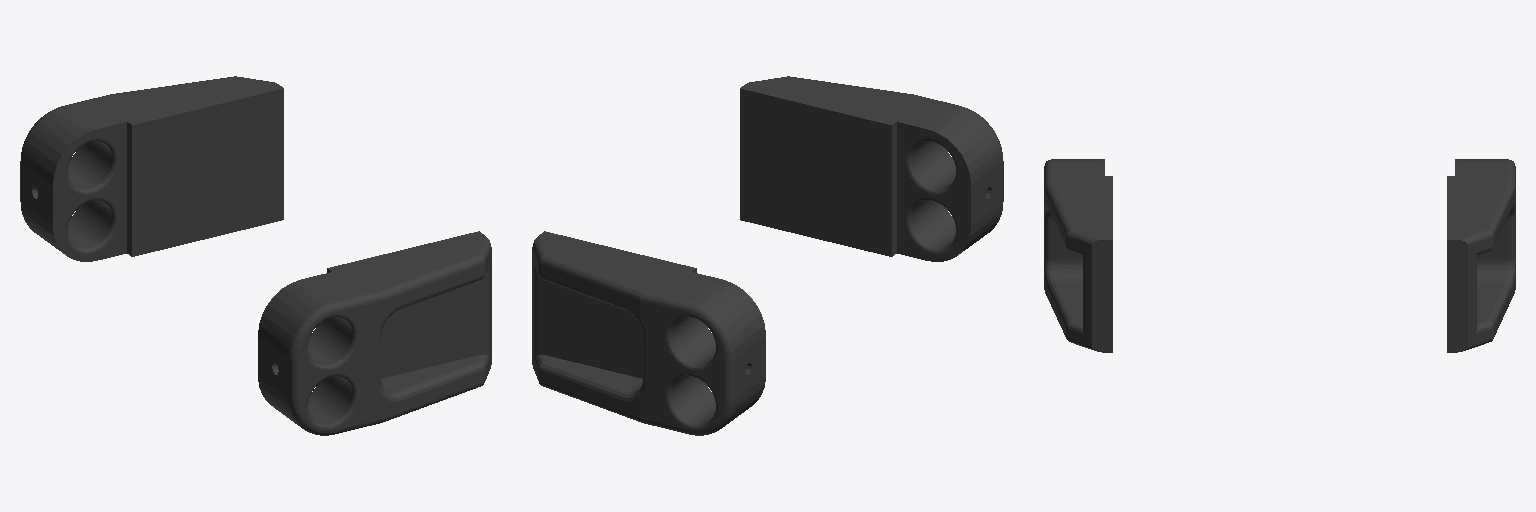
The robot description file, URDF, robot "wx200":
<?xml version="1.0" ?>
<!-- =================================================================================== -->
<!-- |    This document was autogenerated by xacro from urdf/origin.xacro              | -->
<!-- |    EDITING THIS FILE BY HAND IS NOT RECOMMENDED                                 | -->
<!-- =================================================================================== -->
<robot
   name="wx200">
  <link name="robot_arm">
    <visual>
      <origin rpy="0 0 -1.570796325" xyz="0 0 0"/>
      <geometry>
        <mesh filename="meshes/base.stl" scale="1 1 1"/>
      </geometry>
      <material
        name="">
        <color
          rgba="0.3 0.3 0.3 1" />
      </material>
    </visual>
    <collision>
      <origin rpy="0 0 -1.570796325" xyz="0 0 0"/>
      <geometry>
        <mesh filename="meshes/base.stl" scale="1 1 1"/>
      </geometry>
    </collision>
    <inertial>
      <origin rpy="0 0 1.570796325" xyz="-0.0381747000 0.0006478630 0.0193458000"/>
      <mass value="0.540142"/>
      <inertia ixx="0.0021190000" iyy="0.0006925000" izz="0.0025280000" ixy="-0.0000172100" ixz="0.0000006389" iyz="0.0000461200"/>
    </inertial>
  </link>
  <joint name="waist" type="revolute">
    <axis xyz="0 0 1"/>
    <limit effort="8" lower="-3.14158265" upper="3.14158265" velocity="3.14159265"/>
    <origin rpy="0 0 0" xyz="0 0 0.072"/>
    <parent link="robot_arm"/>
    <child link="shoulder_link"/>
    <dynamics friction="0.1"/>
  </joint>
  <transmission name="trans_waist">
    <type>transmission_interface/SimpleTransmission</type>
    <joint name="waist">
      <hardwareInterface>hardware_interface/EffortJointInterface</hardwareInterface>
    </joint>
    <actuator name="waist_motor">
      <mechanicalReduction>1</mechanicalReduction>
    </actuator>
  </transmission>
  <link name="shoulder_link">
    <visual>
      <origin rpy="0 0 1.570796325" xyz="0 0 -0.003"/>
      <geometry>
        <mesh filename="meshes/wx200_2_shoulder.stl" scale="0.001 0.001 0.001"/>
      </geometry>
      <material
        name="">
        <color
          rgba="0.3 0.3 0.3 1" />
      </material>
    </visual>
    <collision>
      <origin rpy="0 0 1.570796325" xyz="0 0 -0.003"/>
      <geometry>
        <mesh filename="meshes/wx200_2_shoulder.stl" scale="0.001 0.001 0.001"/>
      </geometry>
    </collision>
    <inertial>
      <origin rpy="0 0 1.570796325" xyz="0.0000223210 0.0000414608 0.0066287000"/>
      <mass value="0.480879"/>
      <inertia ixx="0.0003790000" iyy="0.0005557000" izz="0.0005889000" ixy="0.0000000022" ixz="-0.0000003561" iyz="0.0000012247"/>
    </inertial>
  </link>
  <joint name="shoulder" type="revolute">
    <axis xyz="0 1 0"/>
    <limit effort="18" lower="-1.88496" upper="1.97222" velocity="3.14159265"/>
    <origin rpy="0 0 0" xyz="0 0 0.03865"/>
    <parent link="shoulder_link"/>
    <child link="upper_arm_link"/>
    <dynamics friction="0.1"/>
  </joint>
  <transmission name="trans_shoulder">
    <type>transmission_interface/SimpleTransmission</type>
    <joint name="shoulder">
      <hardwareInterface>hardware_interface/EffortJointInterface</hardwareInterface>
    </joint>
    <actuator name="shoulder_motor">
      <mechanicalReduction>1</mechanicalReduction>
    </actuator>
  </transmission>
  <link name="upper_arm_link">
    <visual>
      <origin rpy="0 0 1.570796325" xyz="0 0 0"/>
      <geometry>
        <mesh filename="meshes/wx200_3_upper_arm.stl" scale="0.001 0.001 0.001"/>
      </geometry>
      <material
        name="">
        <color
          rgba="0.3 0.3 0.3 1" />
      </material>
    </visual>
    <collision>
      <origin rpy="0 0 1.570796325" xyz="0 0 0"/>
      <geometry>
        <mesh filename="meshes/wx200_3_upper_arm.stl" scale="0.001 0.001 0.001"/>
      </geometry>
    </collision>
    <inertial>
      <origin rpy="0 0 1.570796325" xyz="0.0119707000 -0.0001179264 0.1394290000"/>
      <mass value="0.297781"/>
      <inertia ixx="0.0017100000" iyy="0.0016310000" izz="0.0001482000" ixy="-0.0000011433" ixz="0.0000021161" iyz="0.0002135000"/>
    </inertial>
  </link>
  <joint name="elbow" type="revolute">
    <axis xyz="0 1 0"/>
    <limit effort="13" lower="-1.88496" upper="1.62316" velocity="3.14159265"/>
    <origin rpy="0 0 0" xyz="0.05 0 0.2"/>
    <parent link="upper_arm_link"/>
    <child link="forearm_link"/>
    <dynamics friction="0.1"/>
  </joint>
  <transmission name="trans_elbow">
    <type>transmission_interface/SimpleTransmission</type>
    <joint name="elbow">
      <hardwareInterface>hardware_interface/EffortJointInterface</hardwareInterface>
    </joint>
    <actuator name="elbow_motor">
      <mechanicalReduction>1</mechanicalReduction>
    </actuator>
  </transmission>
  <link name="forearm_link">
    <visual>
      <origin rpy="0 0 1.570796325" xyz="0 0 0"/>
      <geometry>
        <mesh filename="meshes/wx200_4_forearm.stl" scale="0.001 0.001 0.001"/>
      </geometry>
      <material
        name="">
        <color
          rgba="0.3 0.3 0.3 1" />
      </material>
    </visual>
    <collision>
      <origin rpy="0 0 1.570796325" xyz="0 0 0"/>
      <geometry>
        <mesh filename="meshes/wx200_4_forearm.stl" scale="0.001 0.001 0.001"/>
      </geometry>
    </collision>
    <inertial>
      <origin rpy="0 0 1.570796325" xyz="0.1211920000 -0.0001238123 0.0000000000"/>
      <mass value="0.283651"/>
      <inertia ixx="0.0011850000" iyy="0.0000682900" izz="0.0012060000" ixy="-0.0000024317" ixz="0.0000000000" iyz="0.0000000000"/>
    </inertial>
  </link>
  <joint name="wrist_angle" type="revolute">
    <axis xyz="0 1 0"/>
    <limit effort="5" lower="-1.74533" upper="2.14675" velocity="3.14159265"/>
    <origin rpy="0 0 0" xyz="0.2 0 0"/>
    <parent link="forearm_link"/>
    <child link="wrist_link"/>
    <dynamics friction="0.1"/>
  </joint>
  <transmission name="trans_wrist_angle">
    <type>transmission_interface/SimpleTransmission</type>
    <joint name="wrist_angle">
      <hardwareInterface>hardware_interface/EffortJointInterface</hardwareInterface>
    </joint>
    <actuator name="wrist_angle_motor">
      <mechanicalReduction>1</mechanicalReduction>
    </actuator>
  </transmission>
  <link name="wrist_link">
    <visual>
      <origin rpy="0 0 1.570796325" xyz="0 0 0"/>
      <geometry>
        <mesh filename="meshes/wx200_5_wrist.stl" scale="0.001 0.001 0.001"/>
      </geometry>
      <material
        name="">
        <color
          rgba="0.3 0.3 0.3 1" />
      </material>
    </visual>
    <collision>
      <origin rpy="0 0 1.570796325" xyz="0 0 0"/>
      <geometry>
        <mesh filename="meshes/wx200_5_wrist.stl" scale="0.001 0.001 0.001"/>
      </geometry>
    </collision>
    <inertial>
      <origin rpy="0 0 1.570796325" xyz="0.0423600000 -0.0000106630 0.0105770000"/>
      <mass value="0.084957"/>
      <inertia ixx="0.0000308200" iyy="0.0000282200" izz="0.0000315200" ixy="0.0000000191" ixz="0.0000000023" iyz="0.0000025481"/>
    </inertial>
  </link>
  <joint name="wrist_rotate" type="revolute">
    <axis xyz="1 0 0"/>
    <limit effort="1" lower="-3.14158265" upper="3.14158265" velocity="3.14159265"/>
    <origin rpy="0 0 0" xyz="0.065 0 0"/>
    <parent link="wrist_link"/>
    <child link="gripper_link"/>
    <dynamics friction="0.1"/>
  </joint>
  <transmission name="trans_wrist_rotate">
    <type>transmission_interface/SimpleTransmission</type>
    <joint name="wrist_rotate">
      <hardwareInterface>hardware_interface/EffortJointInterface</hardwareInterface>
    </joint>
    <actuator name="wrist_rotate_motor">
      <mechanicalReduction>1</mechanicalReduction>
    </actuator>
  </transmission>
  <link name="gripper_link">
    <visual>
      <origin rpy="0 0 1.570796325" xyz="-0.02 0 0"/>
      <geometry>
        <mesh filename="meshes/wx200_6_gripper.stl" scale="0.001 0.001 0.001"/>
      </geometry>
      <material
        name="">
        <color
          rgba="0.3 0.3 0.3 1" />
      </material>
    </visual>
    <collision>
      <origin rpy="0 0 1.570796325" xyz="-0.02 0 0"/>
      <geometry>
        <mesh filename="meshes/wx200_6_gripper.stl" scale="0.001 0.001 0.001"/>
      </geometry>
    </collision>
    <inertial>
      <origin rpy="0 0 1.570796325" xyz="0.0216310000 0.0000002516 0.0114100000"/>
      <mass value="0.072885"/>
      <inertia ixx="0.0000253700" iyy="0.0000183600" izz="0.0000167400" ixy="0.0000000000" ixz="0.0000000000" iyz="0.0000004340"/>
    </inertial>
  </link>
  <joint name="ee_arm" type="fixed">
    <axis xyz="1 0 0"/>
    <origin rpy="0 0 0" xyz="0.043 0 0"/>
    <parent link="gripper_link"/>
    <child link="ee_arm_link"/>
  </joint>
  <link name="ee_arm_link">
    <inertial>
      <mass value="0.001"/>
      <inertia ixx="0.001" iyy="0.001" izz="0.001" ixy="0" ixz="0" iyz="0"/>
    </inertial>
  </link>
  <link
    name="gripper_bar">
    <inertial>
      <origin
        xyz="0.0077886 -0.00065929 0.0023098"
        rpy="0 0 0" />
      <mass
        value="0.030878" />
      <inertia
        ixx="2.4324E-05"
        ixy="-9.6408E-12"
        ixz="6.6763E-18"
        iyy="3.286E-06"
        iyz="4.8256E-12"
        izz="2.2583E-05" />
    </inertial>
    <visual>
      <origin
        xyz="0 0 0"
        rpy="0 0 0" />
      <geometry>
        <mesh
          filename="meshes/gripper_bar.STL" />
      </geometry>
      <material
        name="">
        <color
          rgba="0.3 0.3 0.3 1" />
      </material>
    </visual>
    <collision>
      <origin
        xyz="0 0 0"
        rpy="0 0 0" />
      <geometry>
        <mesh
          filename="meshes/gripper_bar.STL" />
      </geometry>
    </collision>
  </link>
  <joint
    name="g_par2motor"
    type="fixed">
    <origin
      xyz="0.004 0 0"
      rpy="0 0 0" />
    <parent
      link="ee_arm_link" />
    <child
      link="gripper_bar" />
    <axis
      xyz="0 0 0" />
  </joint>
  <link
    name="left_gripper">
    <inertial>
      <origin
        xyz="-0.01704 0.009464 0"
        rpy="0 0 0" />
      <mass
        value="0.013875" />
      <inertia
        ixx="1.3505E-06"
        ixy="3.4242E-07"
        ixz="-3.1339E-11"
        iyy="3.7791E-06"
        iyz="-6.4052E-12"
        izz="2.9221E-06" />
    </inertial>
    <visual>
      <origin
        xyz="0 0 0"
        rpy="0 0 0" />
      <geometry>
        <mesh
          filename="meshes/left_gripper.STL" />
      </geometry>
      <material
        name="">
        <color
          rgba="0.3 0.3 0.3 1" />
      </material>
      <material
        name="">
        <color
          rgba="0.3 0.3 0.3 1" />
      </material>
    </visual>
    <collision>
      <origin
        xyz="0 0 0"
        rpy="0 0 0" />
      <geometry>
        <mesh
          filename="meshes/left_gripper.STL" />
      </geometry>
      <material
        name="">
        <color
          rgba="0.3 0.3 0.3 1" />
      </material>
    </collision>
  </link>
  <joint
    name="left_gripper2bar"
    type="prismatic">
    <origin
      xyz="0.018 0.054842 0"
      rpy="0 0 -3.1416" />
    <parent
      link="gripper_bar" />
    <child
      link="left_gripper" />
    <axis
      xyz="0 1 0" />
    <limit
      lower="0"
      upper="0.03202"
      effort="5"
      velocity="1" />
  </joint>
  <link
    name="right_gripper">
    <inertial>
      <origin
        xyz="0.01704 0.009464 0"
        rpy="0 0 0" />
      <mass
        value="0.013875" />
      <inertia
        ixx="1.3505E-06"
        ixy="-3.4242E-07"
        ixz="-3.1213E-11"
        iyy="3.7791E-06"
        iyz="6.4326E-12"
        izz="2.9221E-06" />
    </inertial>
    <visual>
      <origin
        xyz="0 0 0"
        rpy="0 0 0" />
      <geometry>
        <mesh
          filename="meshes/right_gripper.STL" />
      </geometry>
      <material
        name="">
        <color
          rgba="0.3 0.3 0.3 1" />
      </material>
    </visual>
    <collision>
      <origin
        xyz="0 0 0"
        rpy="0 0 0" />
      <geometry>
        <mesh
          filename="meshes/right_gripper.STL" />
      </geometry>
    </collision>
  </link>
  <joint
    name="right_gripper2bar"
    type="prismatic">
    <origin
      xyz="0.018 -0.054991 0"
      rpy="0 0 0" />
    <parent
      link="gripper_bar" />
    <child
      link="right_gripper" />
    <axis
      xyz="0 1 0" />
    <limit
      lower="0"
      upper="0.03202"
      effort="5"
      velocity="1" />
  </joint>
  <joint name="ee_gripper" type="fixed">
    <axis xyz="1 0 0"/>
    <origin rpy="0 0 0" xyz="0.06615 0 0"/>
    <parent link="gripper_bar"/>
    <child link="ee_gripper_link"/>
  </joint>
  <link name="ee_gripper_link">
    <inertial>
      <mass value="0.001"/>
      <inertia ixx="0.001" iyy="0.001" izz="0.001" ixy="0" ixz="0" iyz="0"/>
    </inertial>
  </link>
</robot>

--- Facts derived from the render (not from the file) ---
Views: 3 orthographic renders of the robot side by side, from view 1: azimuth 30°, elevation 25°; view 2: azimuth 150°, elevation 25°; view 3: azimuth 270°, elevation 25°.
Model wx200 with 11 links and 10 joints (5 revolute, 2 prismatic, 3 fixed), rooted at robot_arm, posed every joint at zero.
Links seen in each view (by area): view 1: left_gripper, right_gripper; view 2: right_gripper, left_gripper; view 3: left_gripper, right_gripper.
Link boxes in pixels (left/top/right/bottom): left_gripper: left=20, top=76, right=283, bottom=261; right_gripper: left=258, top=231, right=491, bottom=435; right_gripper: left=740, top=76, right=1003, bottom=261; left_gripper: left=532, top=231, right=765, bottom=435; left_gripper: left=1447, top=159, right=1515, bottom=352; right_gripper: left=1044, top=159, right=1112, bottom=352.
Bounding box of the posed robot: 0.0522 × 0.1098 × 0.029 m (x, y, z).
2 mesh visuals loaded from 9 distinct referenced files (2 binary STL); not drawn: 7 (reference not matched to a file when rendering).